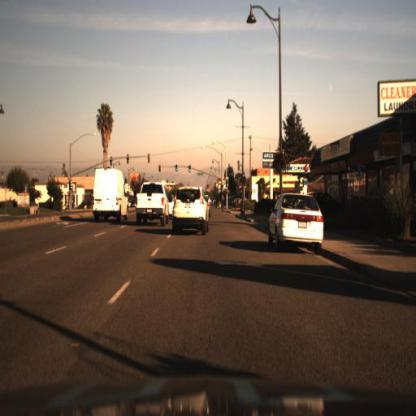biker: (220, 187, 229, 215)
car: (267, 190, 327, 249), (93, 166, 130, 223), (172, 185, 211, 236), (133, 177, 170, 227), (166, 194, 177, 220)
truck: (92, 168, 130, 223)
